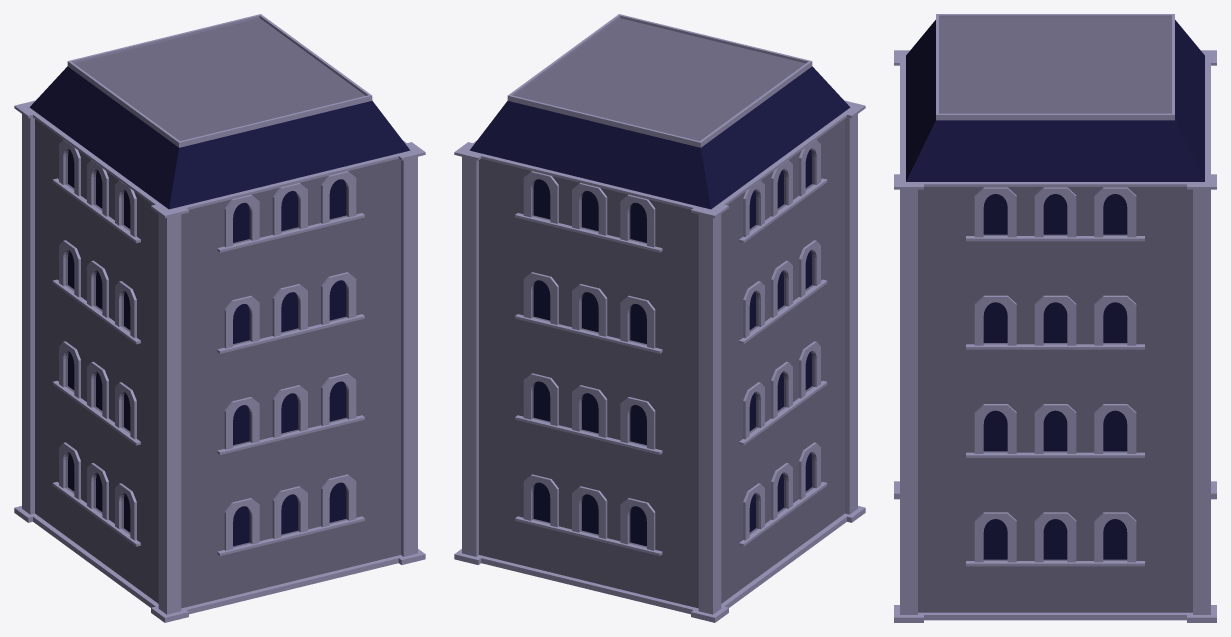
The model's file is house v6.003.fbx.
The picture shows the model from 3 angles, left to right: view 1: azimuth 30°, elevation 25°; view 2: azimuth 150°, elevation 25°; view 3: azimuth 270°, elevation 25°; orthographic projection. The views are drawn at different scales.
Parts seen in each view (by area): view 1: Building; view 2: Building; view 3: Building.
Part boxes in pixels (box(x1,y1,x2,y2)): Building: box(14, 14, 425, 622); Building: box(454, 14, 865, 622); Building: box(894, 14, 1216, 622).
Size of the model in its own units: 540 by 540 by 905.
